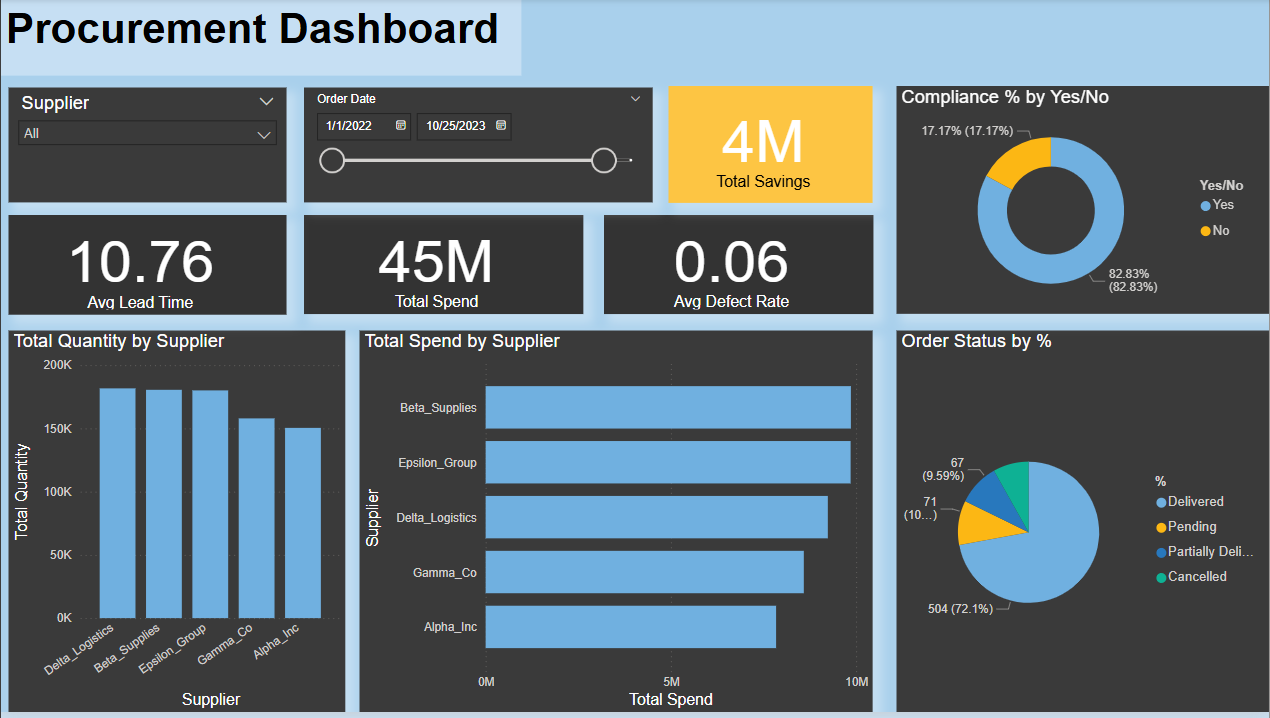

What the dashboard file says about the page in this screenshot:
{"tool":"powerbi","page":{"name":"Page 1","canvas":[1280,720],"ordinal":0},"visuals":[{"type":"card","fields":{"Values":["Sum(PivotTable.Total Sum of Total Spend)"]},"box":[306,218,282,100],"z":0},{"type":"clusteredColumnChart","fields":{"Category":["PO_sheet.Supplier"],"Y":["Sum(PivotTable.Total Sum of Quantity)"]},"box":[8,334,340,386],"z":1000},{"type":"textbox","box":[0,0,525.4,77.2],"z":2000},{"type":"slicer","fields":{"Values":["PivotTable.Supplier"]},"box":[7.6,89.9,280.4,115.8],"z":3000},{"type":"card","fields":{"Values":["Avg(PivotTable.Total Avg Defect Rate)"]},"box":[608,218,272,100],"z":4000},{"type":"card","fields":{"Values":["Avg(PivotTable.Total Avg Lead Time)"]},"box":[7.6,217.9,280.4,100.6],"z":5000},{"type":"slicer","fields":{"Values":["PO_sheet.Order_Date"]},"box":[306,90,352,116],"z":6000},{"type":"clusteredBarChart","fields":{"Category":["PivotTable.Supplier"],"Y":["Sum(PivotTable.Total Sum of Total Spend)"]},"box":[362,334,518,386],"z":7000},{"type":"pieChart","fields":{"Category":["PO_sheet.Order_Status"],"Y":["CountNonNull(PO_sheet.Order_Status)"]},"box":[904,334,376,386],"z":8000},{"type":"card","fields":{"Values":["Sum(PO_sheet.Total_Savings)"]},"box":[674,88,206,118],"z":9000},{"type":"donutChart","fields":{"Category":["PO_sheet.Compliance"],"Y":["CountNonNull(PO_sheet.Compliance)"]},"box":[904,88,376,230],"z":10000}]}

Visuals, with their boxes in screenshot pixels (x1, y1, x2, y2), scaled from the page's 1280x720 canvas onto the 1270x718 screenshot:
card - Sum(PivotTable.Total Sum of Total Spend): box=[304, 217, 583, 317]
clusteredColumnChart - PO_sheet.Supplier x Sum(PivotTable.Total Sum of Quantity): box=[8, 333, 345, 717]
textbox: box=[0, 0, 521, 77]
slicer - PivotTable.Supplier: box=[8, 90, 286, 205]
card - Avg(PivotTable.Total Avg Defect Rate): box=[603, 217, 873, 317]
card - Avg(PivotTable.Total Avg Lead Time): box=[8, 217, 286, 318]
slicer - PO_sheet.Order_Date: box=[304, 90, 653, 205]
clusteredBarChart - PivotTable.Supplier x Sum(PivotTable.Total Sum of Total Spend): box=[359, 333, 873, 717]
pieChart - PO_sheet.Order_Status x CountNonNull(PO_sheet.Order_Status): box=[897, 333, 1269, 717]
card - Sum(PO_sheet.Total_Savings): box=[669, 88, 873, 205]
donutChart - PO_sheet.Compliance x CountNonNull(PO_sheet.Compliance): box=[897, 88, 1269, 317]
